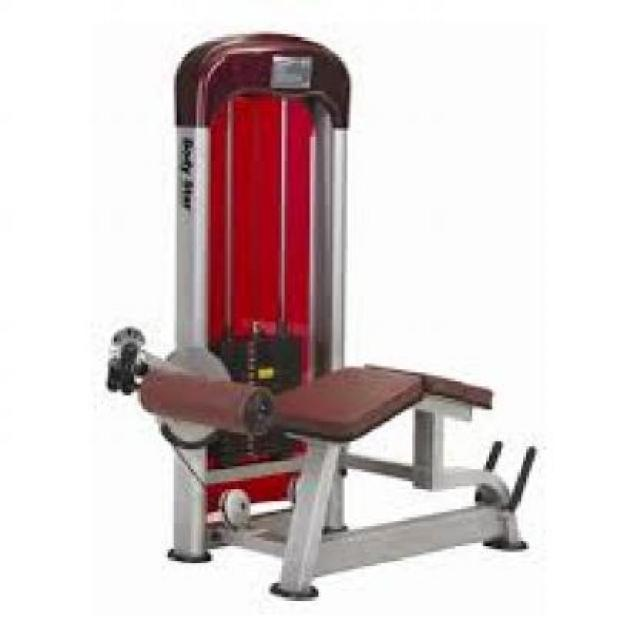reg curl machine: (108, 34, 540, 606)
